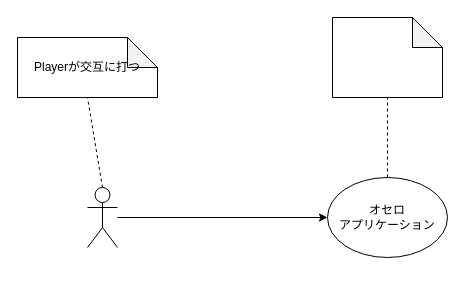
The diagram is 465 pixels wide and 286 high, and some of its shapes have lost their labels. The shapes that lost their labels are listed below. From the top down, each one's box as (x1, y1, x2, y2) in pixels, then its label:
(332, 16, 442, 98): Webアプリ
(86, 186, 118, 248): プレイヤー
